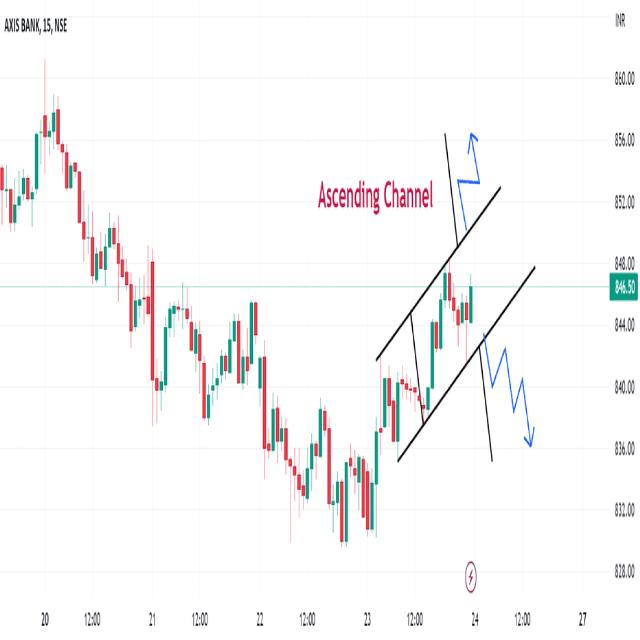Channel-down: (0, 78, 362, 572)
Channel-up: (311, 231, 498, 572)
